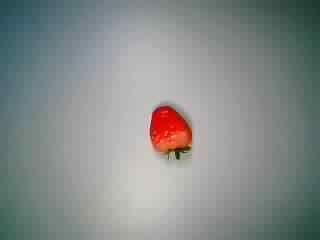strawberry: (132, 99, 200, 163)
